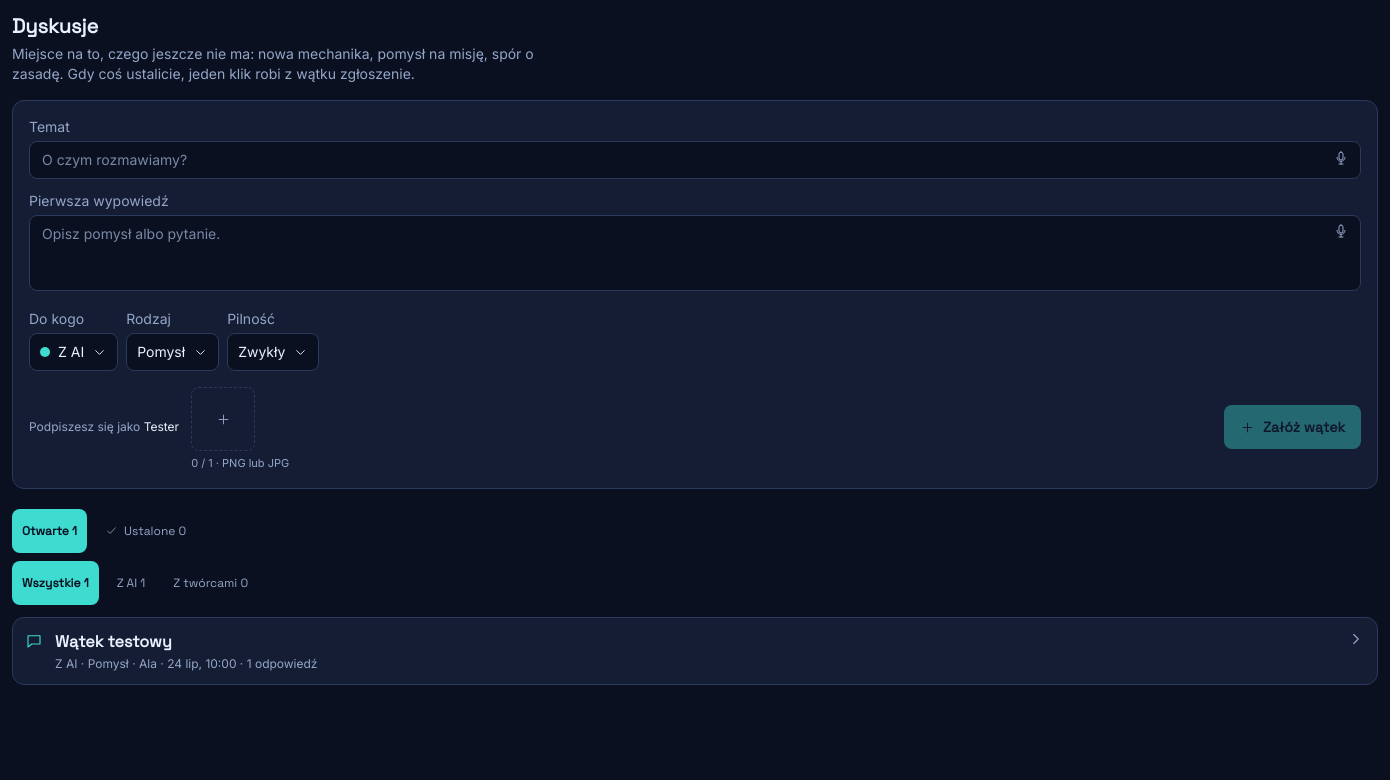
Test: DiscussionsPanel — moderacja cudzych wypowiedzi › programmer rusza cudzą wypowiedź, tak jak admin
This screenshot has width=1390, height=780.
Click the button "Wątek testowy" at coordinates (113, 641), box [12,616,1378,684]
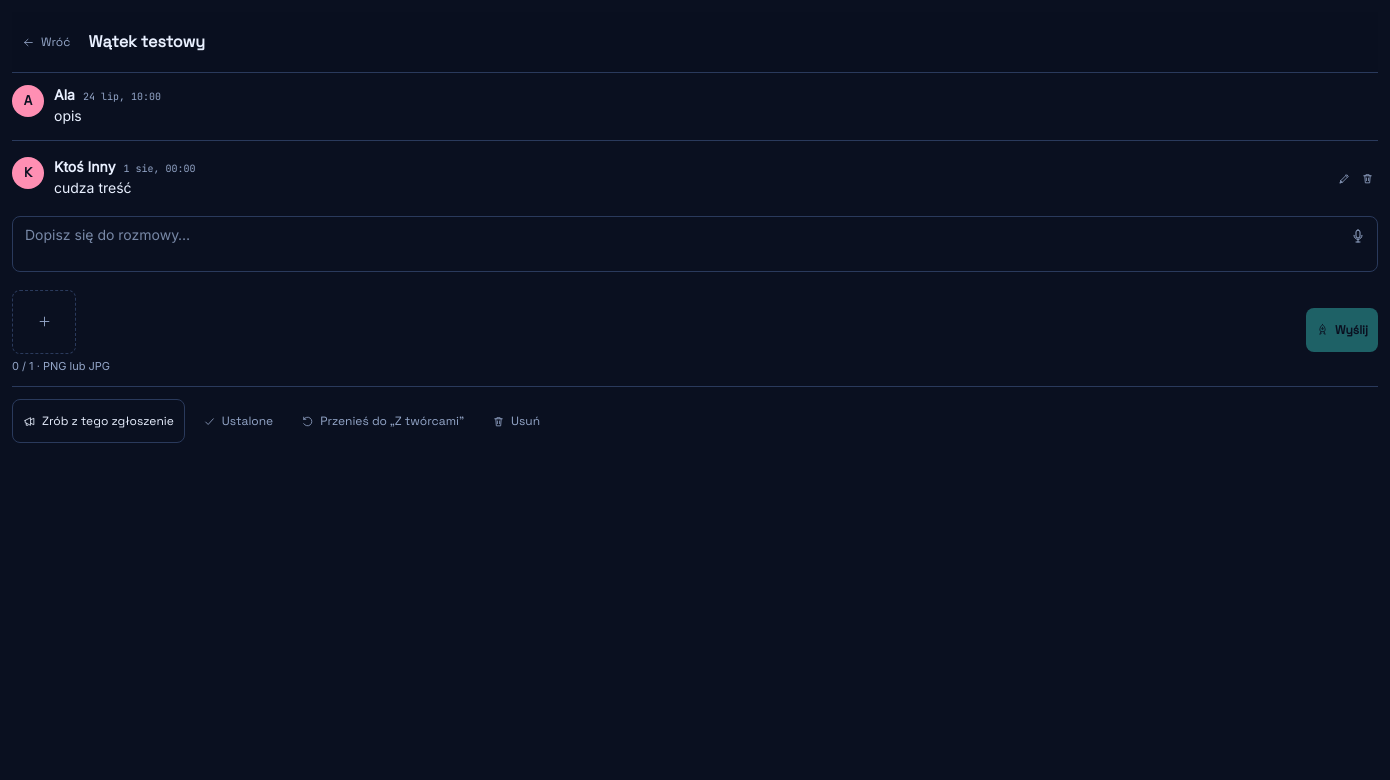
Result: the button named "Popraw wypowiedź Ktoś Inny" is shown at [1334,157,1355,200]
Result: the button named "Usuń wypowiedź Ktoś Inny" is shown at [1357,157,1378,200]
